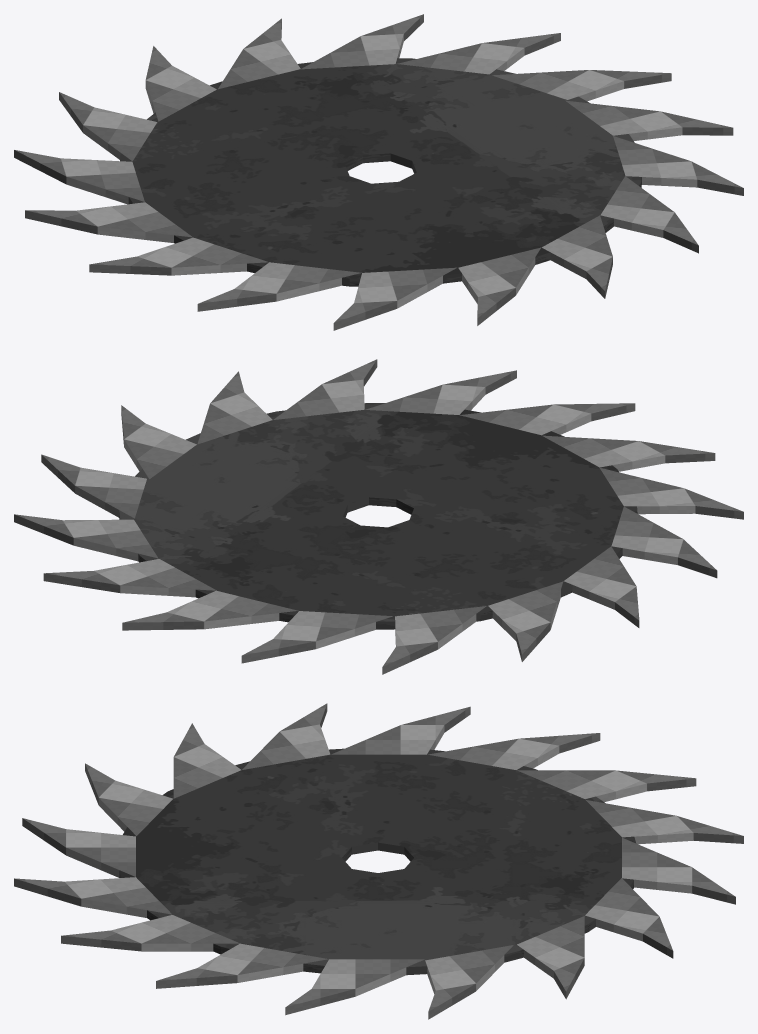
The model's file is sawblade.obj.
3 views of the same model, one above another, from view 1: azimuth 30°, elevation 25°; view 2: azimuth 150°, elevation 25°; view 3: azimuth 270°, elevation 25° (orthographic).
Visible parts, largest first — view 1: Mesh.002_Mesh.012_slot1.011; view 2: Mesh.002_Mesh.012_slot1.011; view 3: Mesh.002_Mesh.012_slot1.011.
Part boxes in pixels (x1=…): Mesh.002_Mesh.012_slot1.011: x1=14, y1=14, x2=743, y2=330; Mesh.002_Mesh.012_slot1.011: x1=14, y1=359, x2=743, y2=674; Mesh.002_Mesh.012_slot1.011: x1=14, y1=703, x2=743, y2=1019.
Size of the model in its own units: 83.52 by 1 by 83.43.
